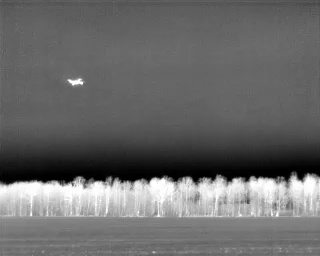DRONE: (64, 73, 88, 90)
